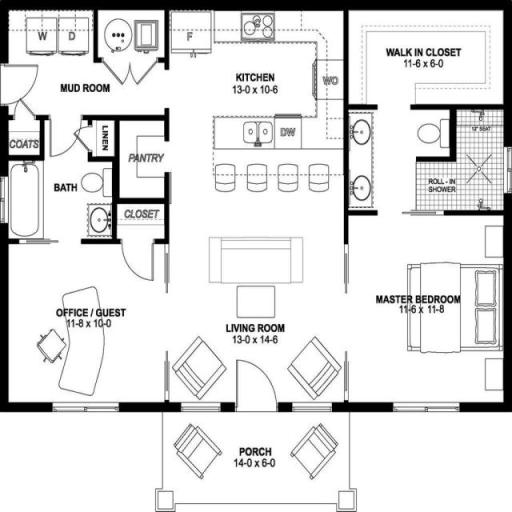Room: (17, 240, 170, 403)
bathroom: (24, 22, 174, 235), (360, 124, 512, 228)
bedroom: (357, 230, 512, 400)
closet: (361, 12, 506, 121)
hall: (184, 217, 344, 405)
kitchen: (180, 14, 350, 204)
porch: (164, 409, 362, 512)
